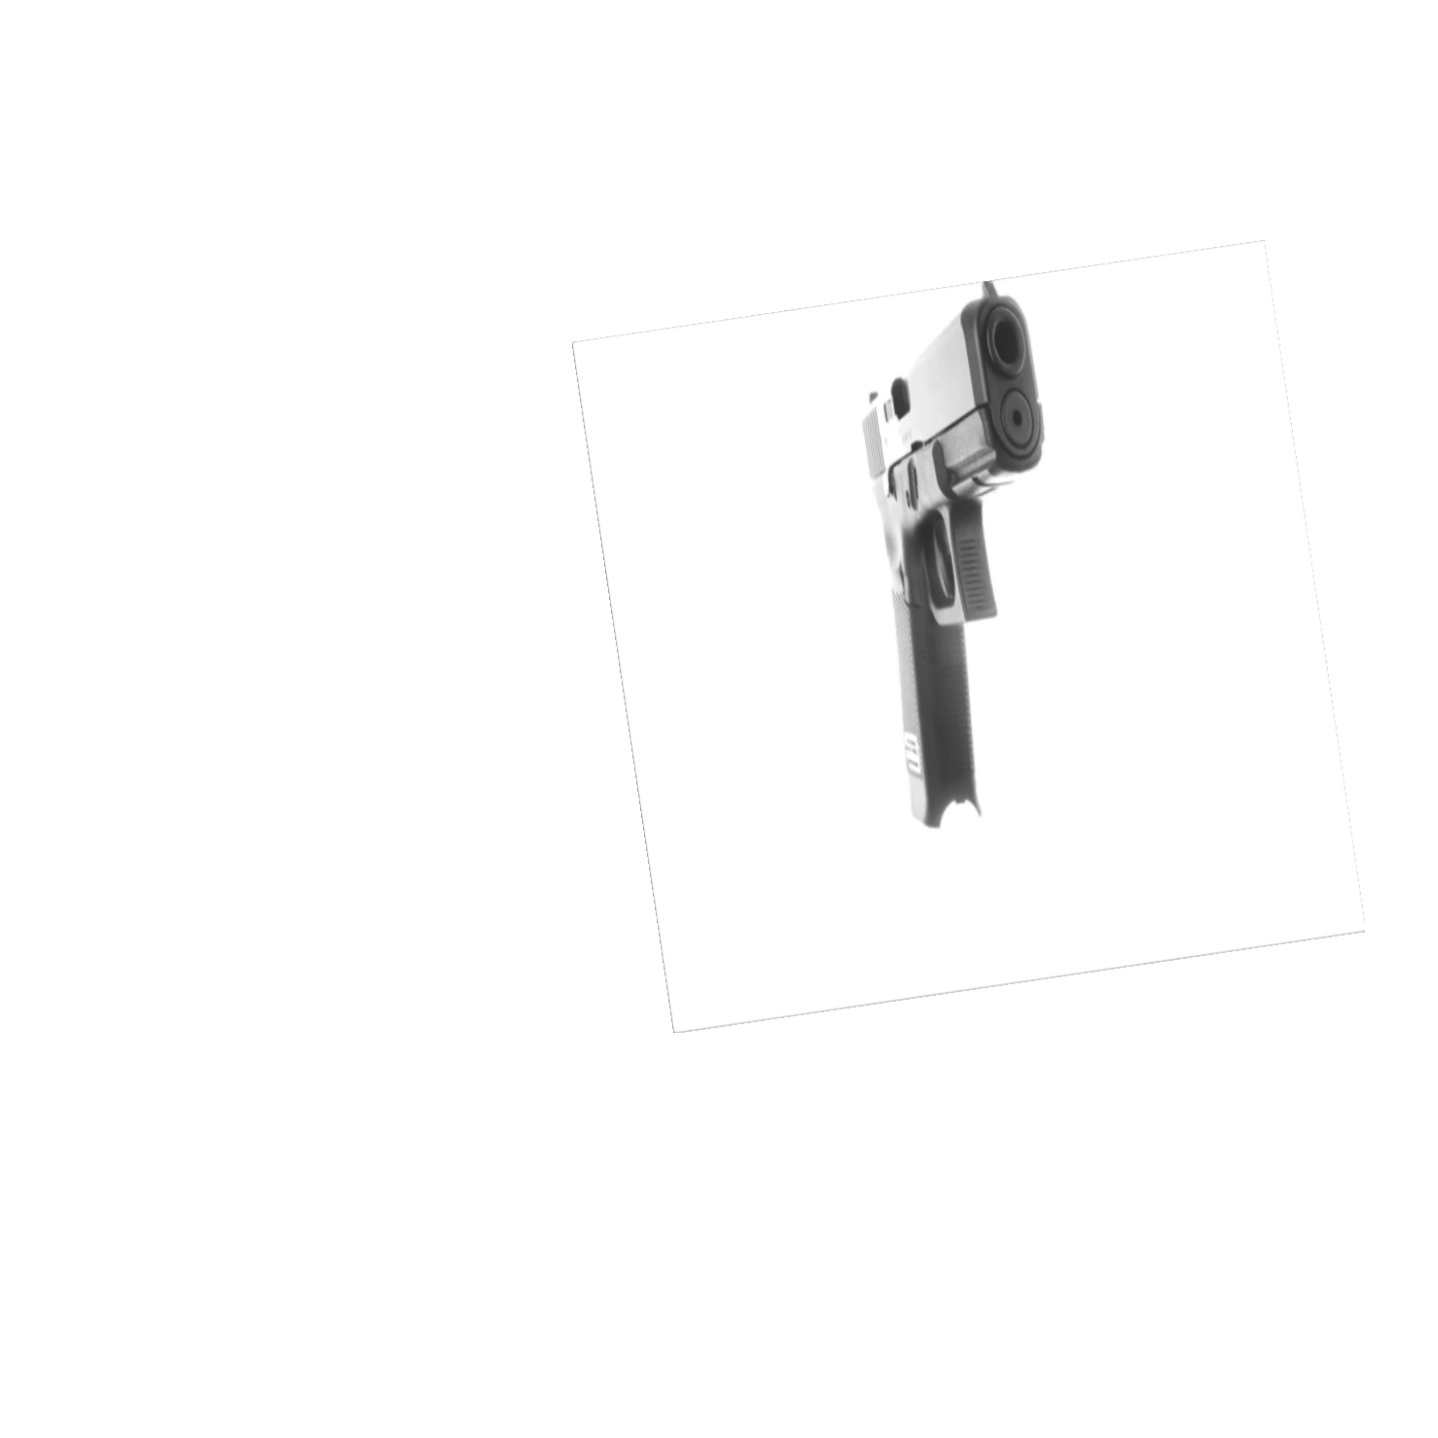gun: (857, 283, 1050, 830)
